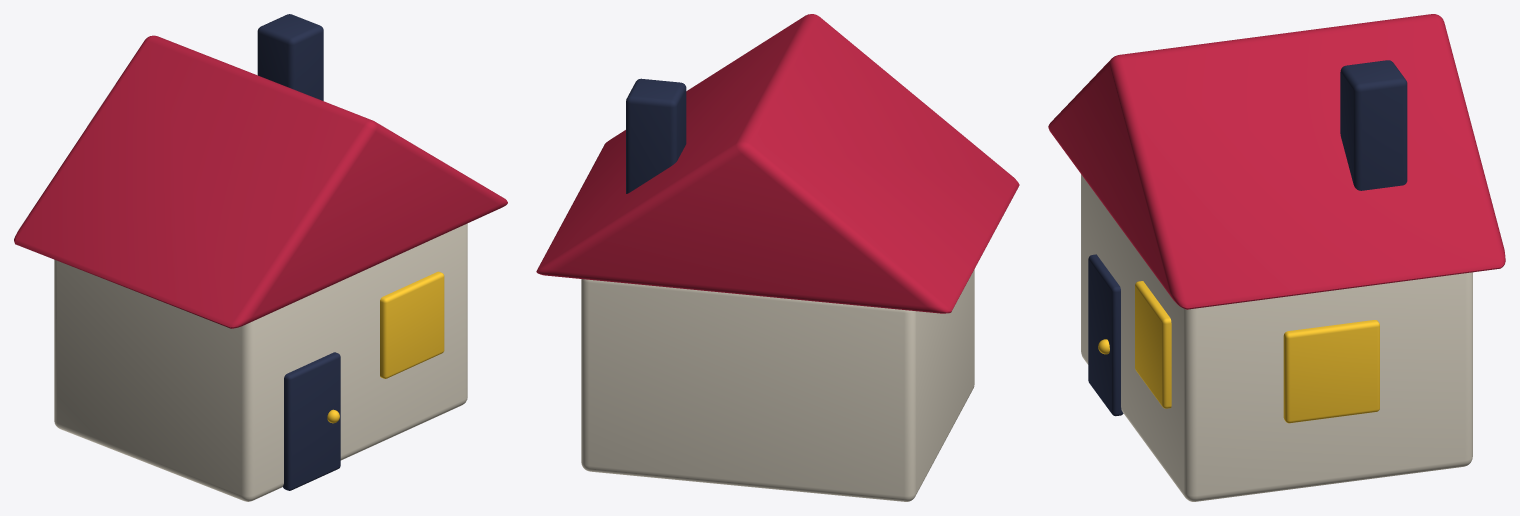
The model's file is onboarding-parent.glb.
The picture shows the model from 3 angles, left to right: view 1: azimuth 30°, elevation 25°; view 2: azimuth 150°, elevation 25°; view 3: azimuth 270°, elevation 25°; orthographic projection. The views are drawn at different scales.
Parts seen in each view (by area): view 1: poly, Cube, Cube.002, Cube.003, Cube.001; view 2: poly, Cube, Cube.001; view 3: poly, Cube, Cube.004, Cube.001, Cube.002, Cube.003.
Part boxes in pixels (x1,y1,x2,y2): poly: (14, 35, 507, 328); Cube: (54, 223, 467, 501); Cube.002: (283, 352, 340, 490); Cube.003: (380, 271, 444, 378); Cube.001: (257, 14, 323, 100); poly: (536, 14, 1019, 313); Cube: (581, 269, 974, 501); Cube.001: (626, 78, 686, 193); poly: (1048, 14, 1505, 309); Cube: (1081, 174, 1472, 501); Cube.004: (1283, 320, 1379, 423); Cube.001: (1340, 60, 1407, 190); Cube.002: (1088, 254, 1123, 416); Cube.003: (1135, 281, 1171, 408).
Size of the model in its own units: 2.46 by 1.95 by 2.12.
